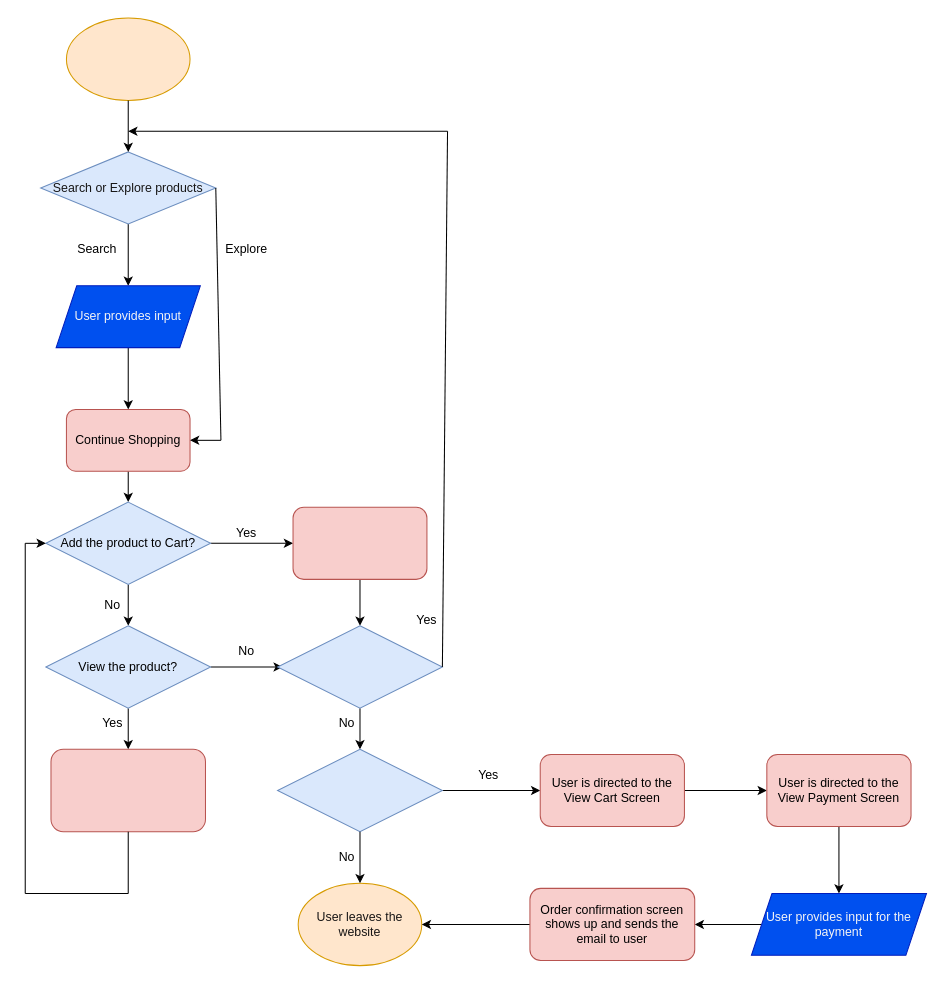
The diagram is 945 pixels wide and 984 high, and some of its shapes have lost their labels. The box of each missing label's shape, as (x1, y1, x2, y2) in pixels:
A new webpage about the product details opened: (50, 748, 205, 832)
Add the item to user's cart: (292, 506, 427, 579)
Continue shoping?: (277, 625, 442, 708)
Go check out?: (277, 748, 442, 832)
User enters the website: (65, 17, 190, 100)
